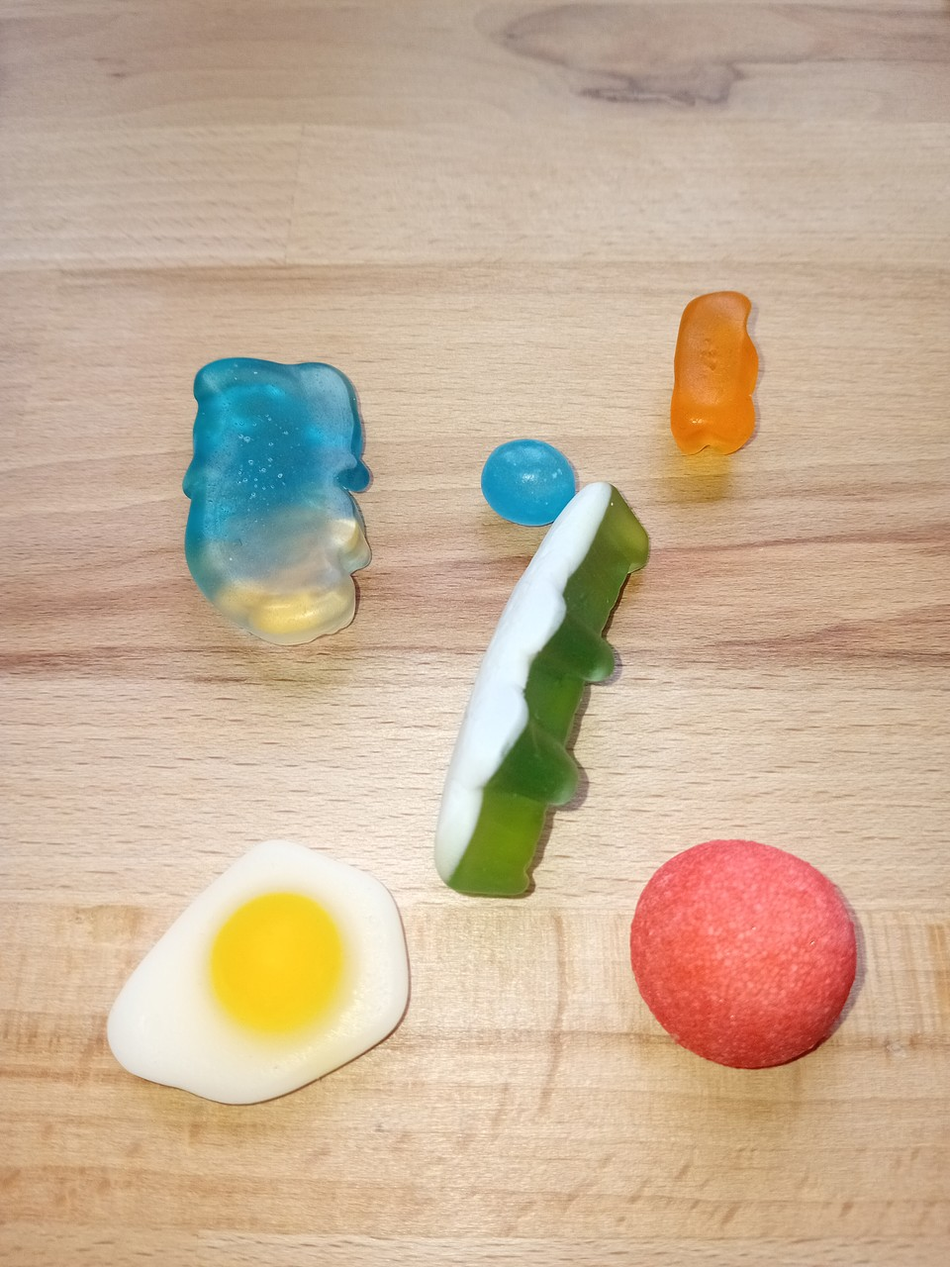crocodile_vert: (425, 479, 655, 916)
dragibus_bleu: (470, 430, 583, 531)
oeuf_oeuf: (101, 826, 414, 1116)
ourson_orangeClair: (660, 283, 768, 463)
schtroumpf_bleu-blanc: (173, 344, 380, 650)
tagada_fraise: (619, 835, 862, 1069)
